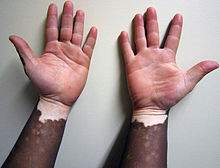vitiligo: (34, 86, 73, 139), (132, 98, 171, 148)
